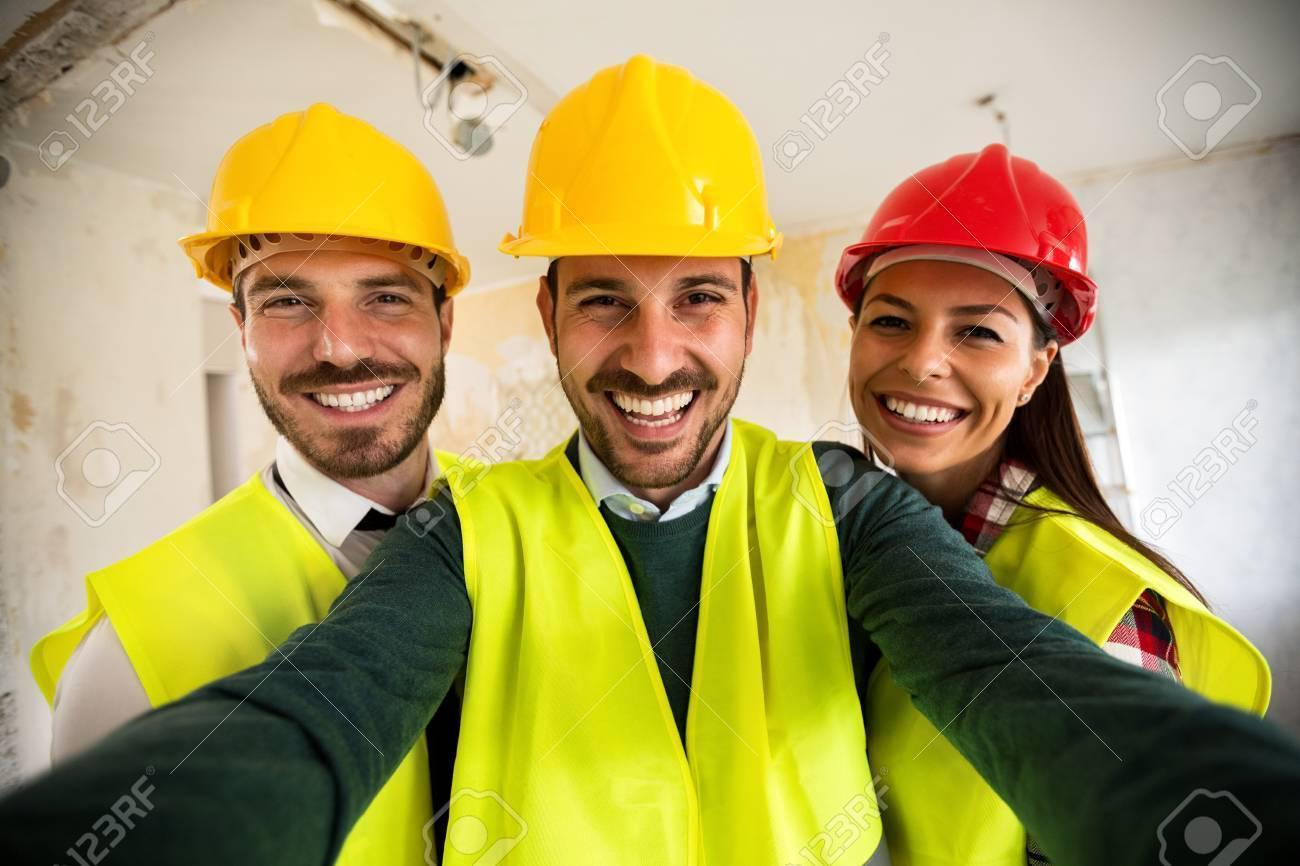helmet: (498, 50, 787, 256), (176, 100, 471, 289), (836, 142, 1097, 343)
